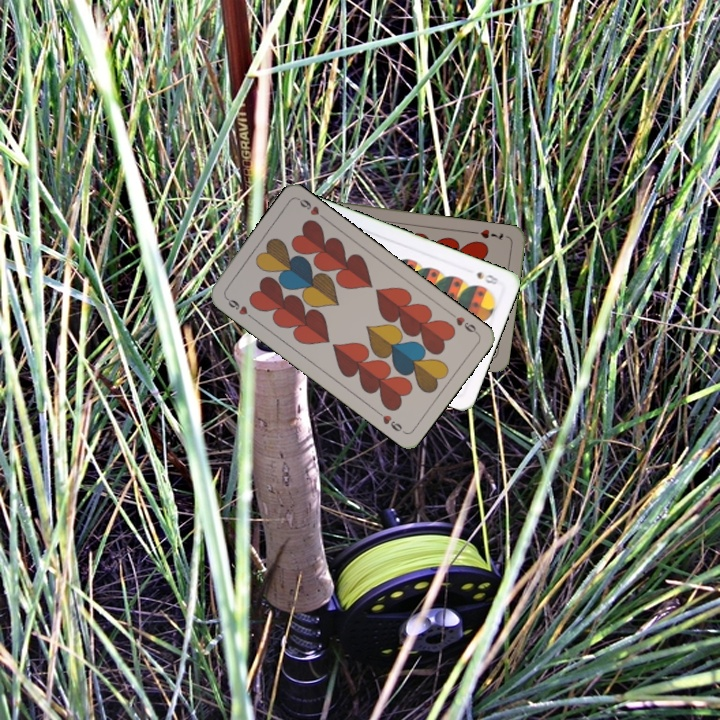H7: (477, 225, 506, 243)
H9: (446, 308, 481, 337), (221, 293, 256, 322)
S8: (473, 268, 501, 287)
